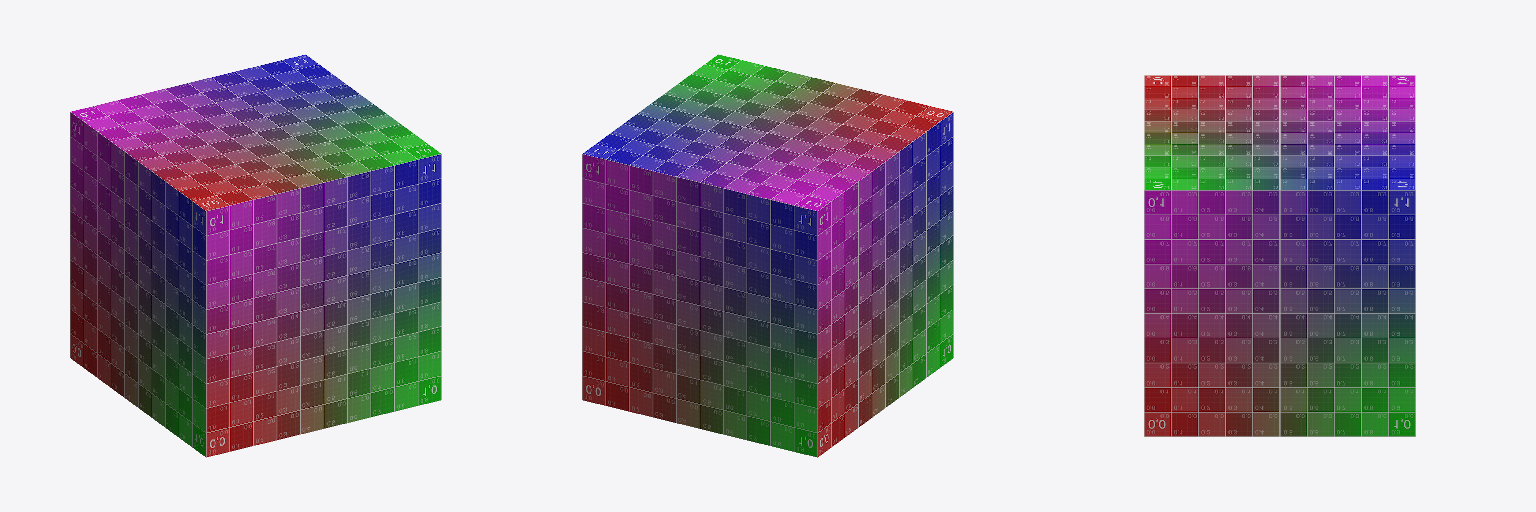
3 views of the same model, side by side, from view 1: azimuth 30°, elevation 25°; view 2: azimuth 150°, elevation 25°; view 3: azimuth 270°, elevation 25° (orthographic).
Parts seen in each view (by area): view 1: cube; view 2: cube; view 3: cube.
Part boxes in pixels (x1,y1,x2,y2): cube: (70, 54, 441, 457); cube: (582, 54, 953, 457); cube: (1144, 75, 1415, 436).
Bounding box in the file's own units: 1 × 1 × 1.
1 materials, 1 textured.